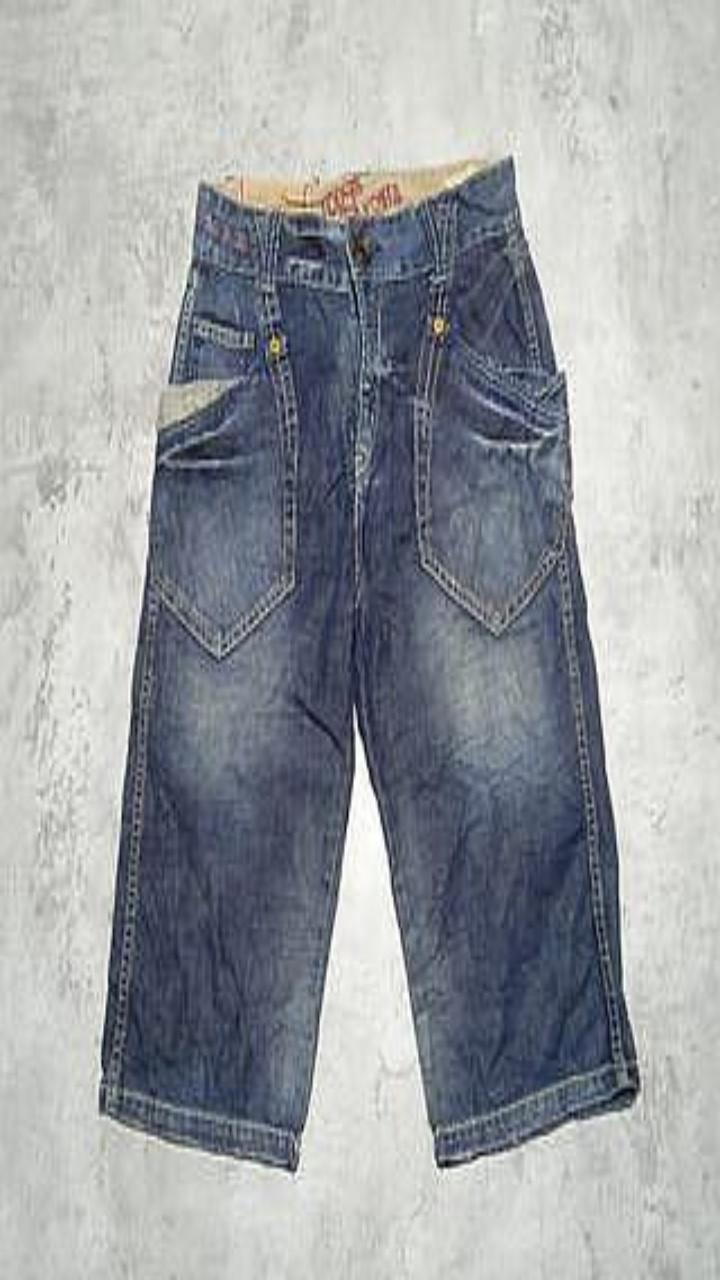Shorts: (99, 154, 639, 1170)
